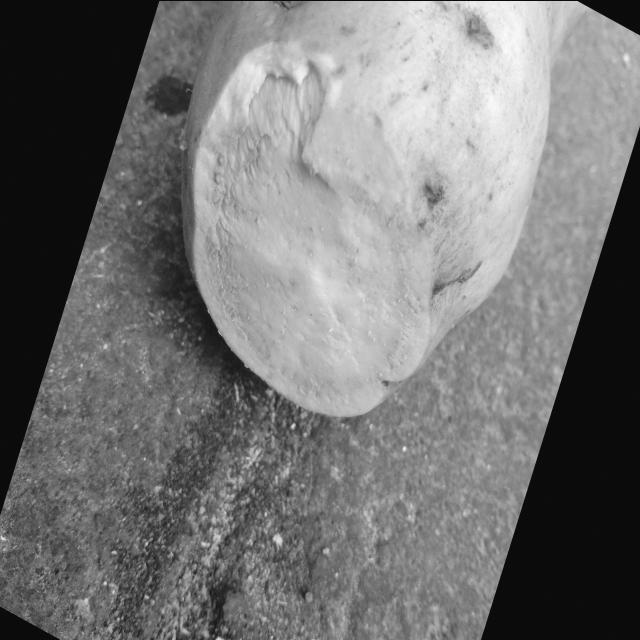Healthy Sweet Potato: (185, 42, 429, 415)
